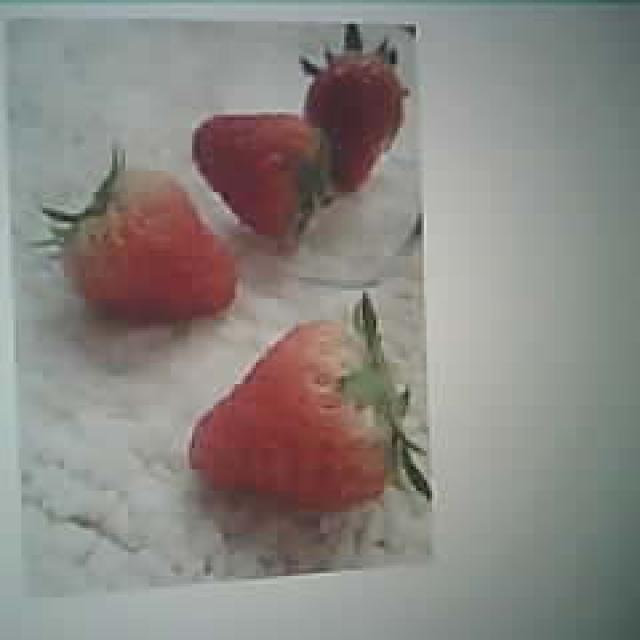strawberry: (186, 321, 404, 507), (64, 172, 236, 316)
